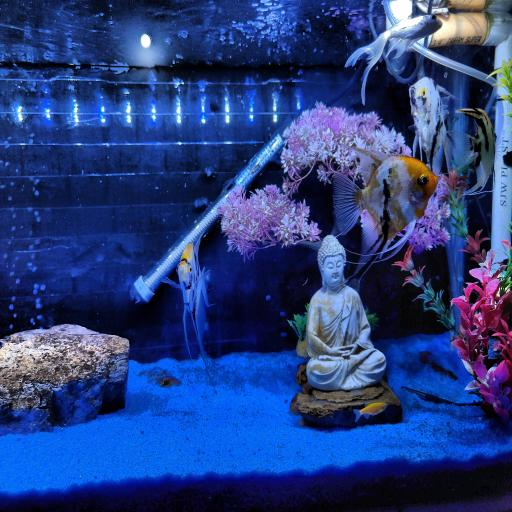Fish: (333, 148, 437, 279), (346, 15, 441, 104), (163, 238, 209, 371), (409, 77, 452, 175), (452, 109, 495, 194), (353, 403, 386, 421)
